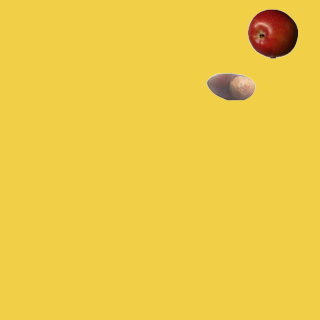Apple Braeburn: (247, 8, 297, 58)
Hazelnut: (205, 61, 255, 111)
